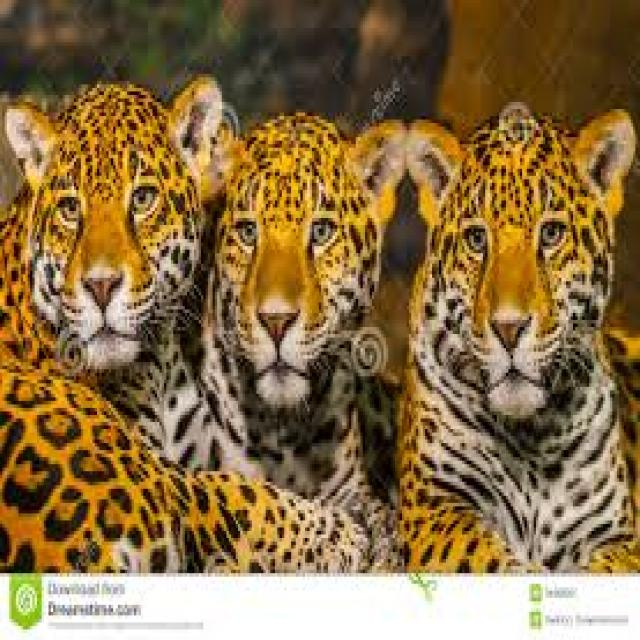Jaguar: (418, 113, 640, 573), (206, 70, 411, 545), (5, 81, 194, 548)
